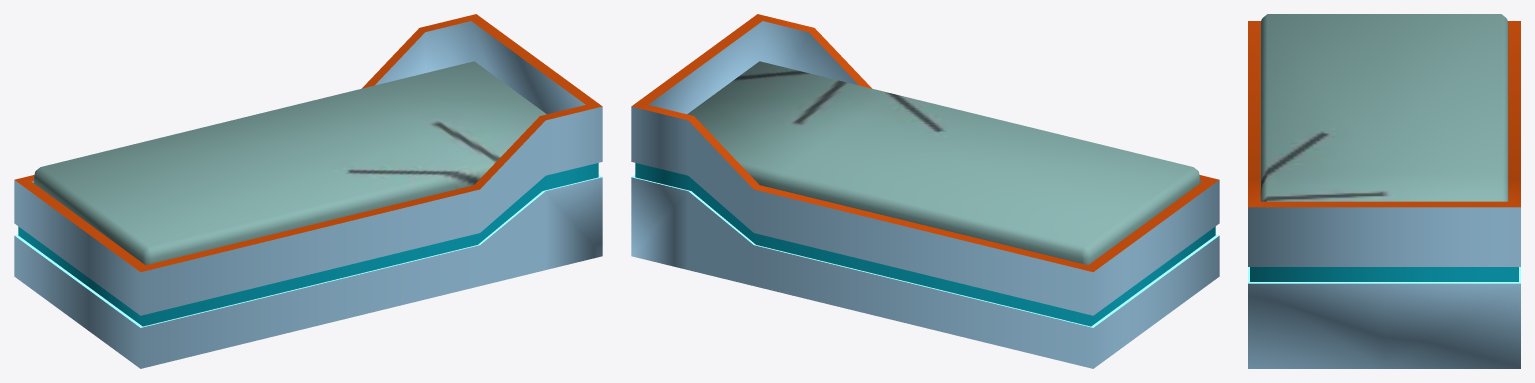
File: Cama.fbx
3 renders of one model, left to right at view 1: azimuth 30°, elevation 25°; view 2: azimuth 150°, elevation 25°; view 3: azimuth 270°, elevation 25°, orthographic. The views are drawn at different scales.
Parts seen in each view (by area): view 1: Cama; view 2: Cama; view 3: Cama.
Part boxes in pixels (<box>): Cama: <box>14,14,602,368</box>; Cama: <box>631,14,1219,368</box>; Cama: <box>1248,14,1520,368</box>.
Bounding box in the file's own units: 190 × 58.83 × 90.
Materials: 5 (1 with a texture image).
